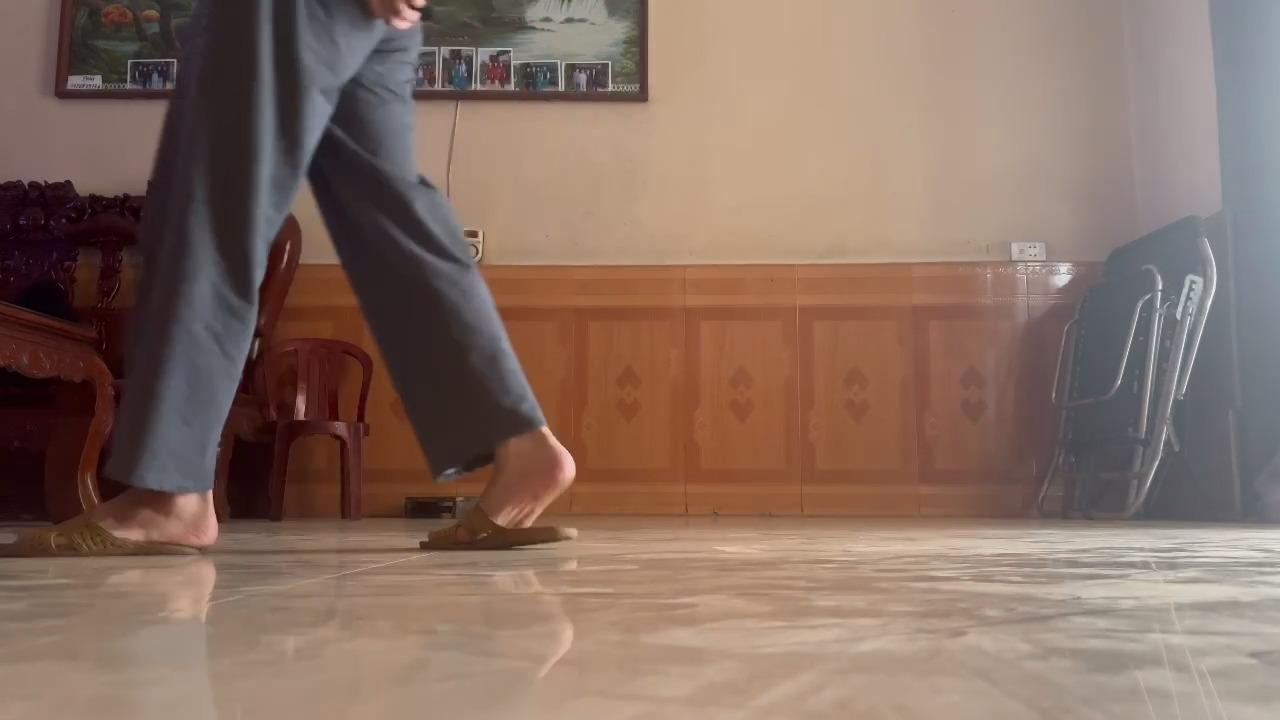no-boot: (403, 440, 596, 564), (0, 487, 239, 573)
